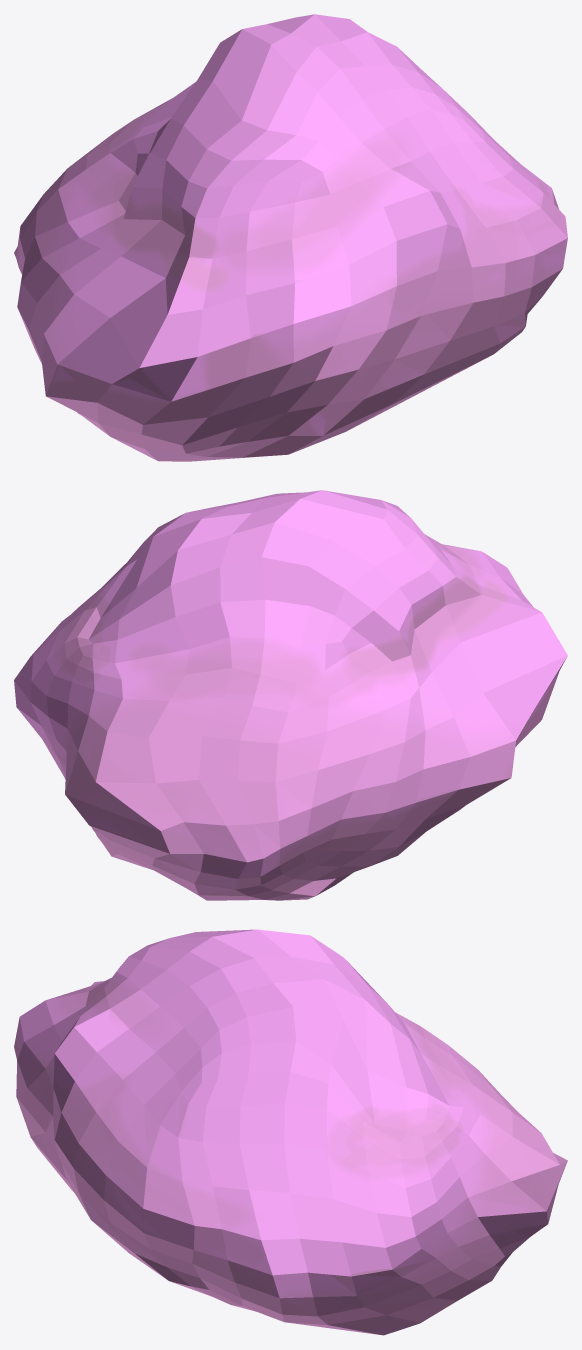
Rendered from gum.fbx.
The picture shows the model from 3 angles, top to bottom: view 1: azimuth 30°, elevation 25°; view 2: azimuth 150°, elevation 25°; view 3: azimuth 270°, elevation 25°; orthographic projection. The views are drawn at different scales.
Visible parts, largest first — view 1: Cube; view 2: Cube; view 3: Cube.
Boxes of the visible parts, <box> form: Cube: <box>14,14,567,461</box>; Cube: <box>14,490,567,900</box>; Cube: <box>14,929,567,1335</box>.
Size of the model in its own units: 267 by 192 by 270.
